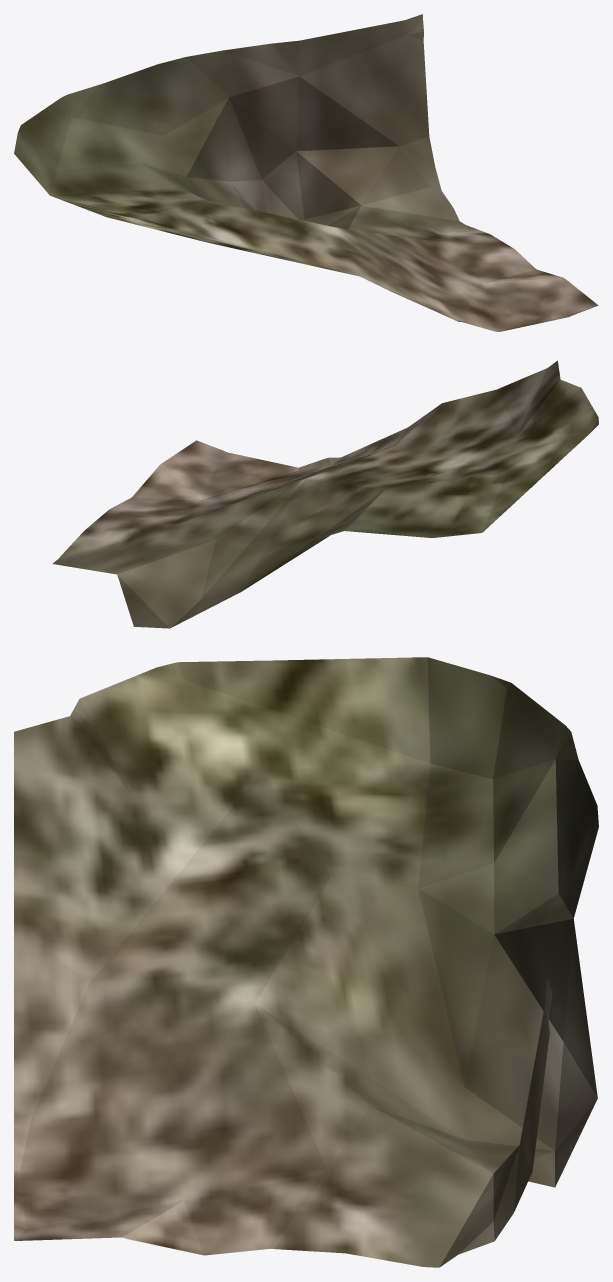
3 renders of one model, top to bottom at view 1: azimuth 30°, elevation 25°; view 2: azimuth 150°, elevation 25°; view 3: azimuth 270°, elevation 25°, orthographic. The views are drawn at different scales.
Size of the model in its own units: 0.9968 by 0.3914 by 0.735.
1 material, 1 textured.
